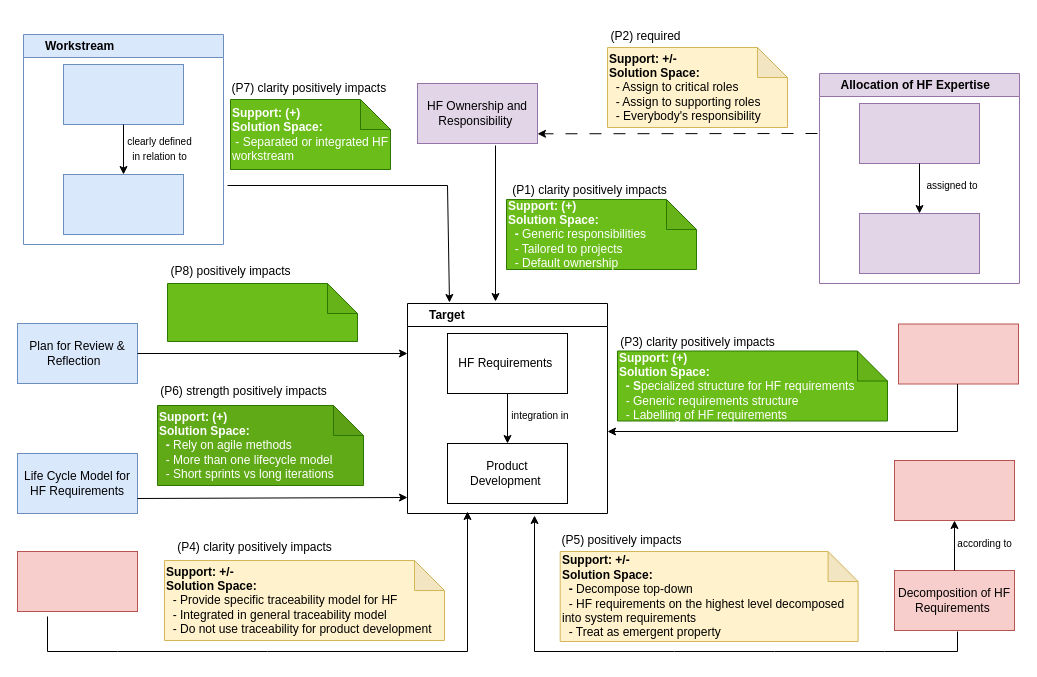
The diagram is 1037 pixels wide and 677 high, and some of its shapes have lost their labels. Here are the shapes that lost their labels. From the top down, the centre of each, then its label:
point 123,94: HF Workstream
point 919,133: HF Expertise
point 123,204: Other Workstream
point 919,243: Critical Roles
point 262,312: Support: (+) Solution Space: - Explicit plan for HF
point 958,353: HF Requirements Structure
point 954,490: Organisational Levels
point 77,581: HF Requirements Tracebility
